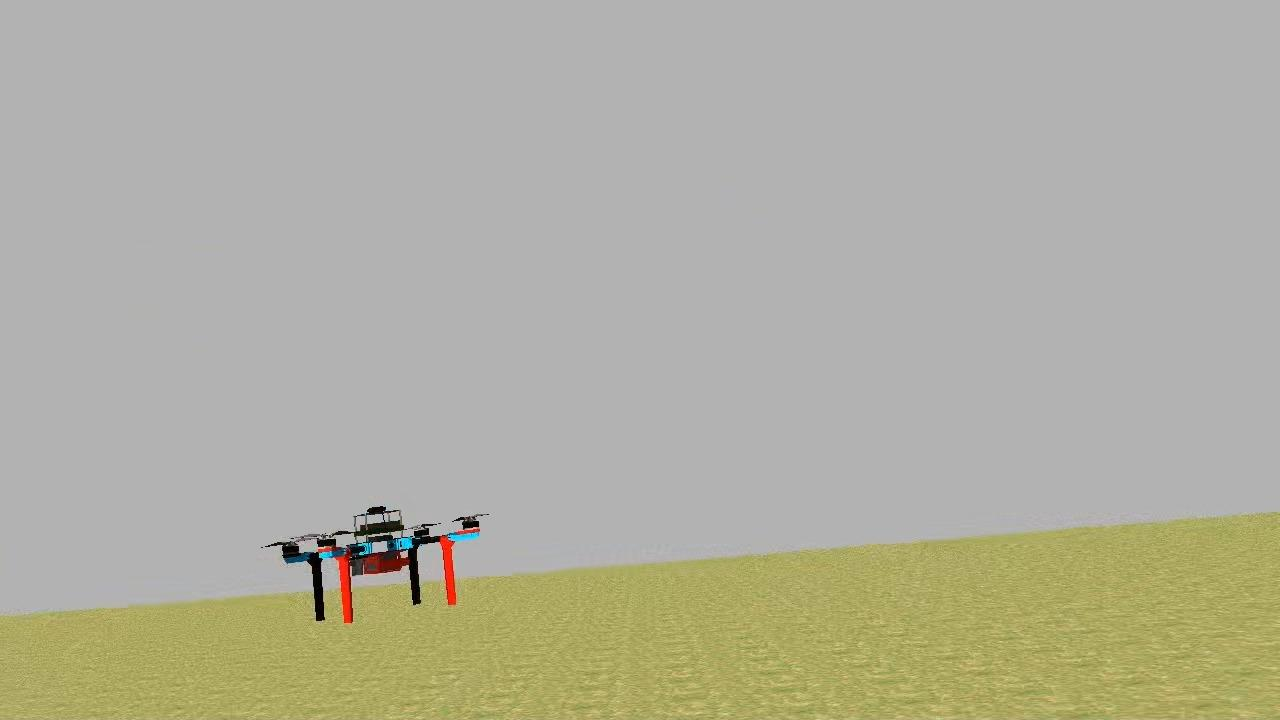UAV: (268, 497, 492, 636)
